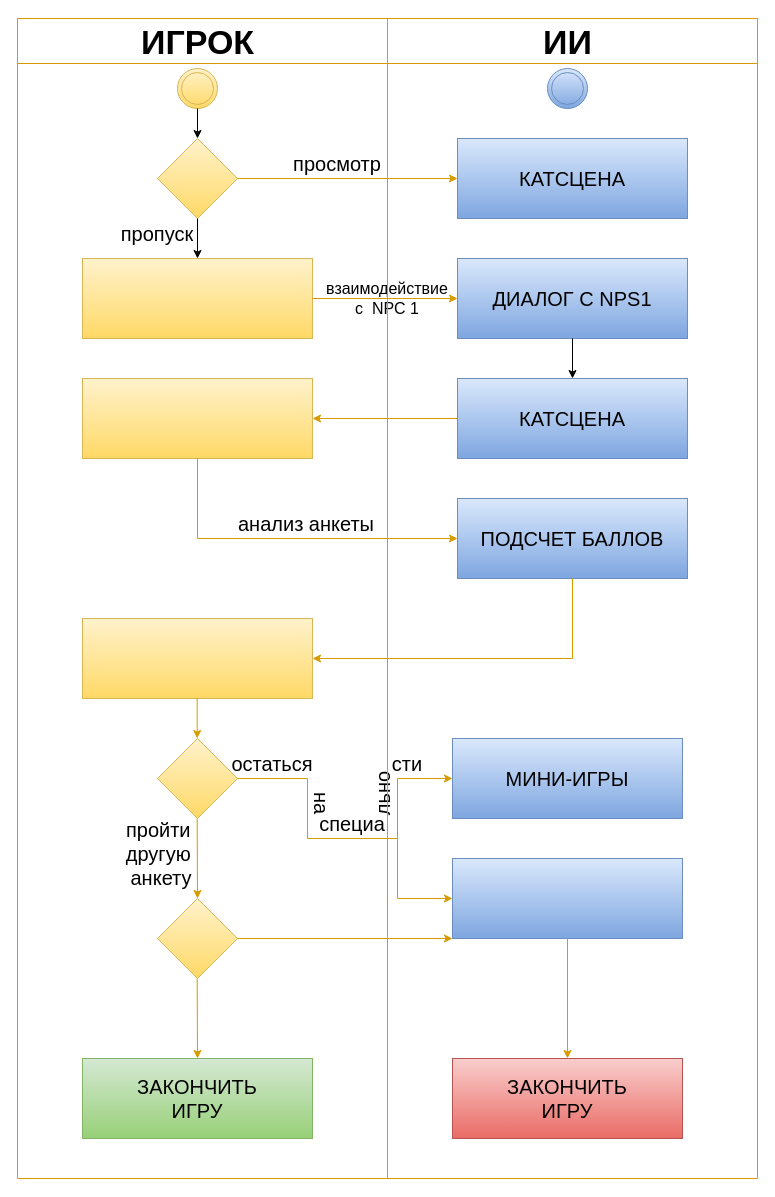
Image size: 775x1197. Some labels were removed from this diagram. The centre of each missing label's shape, as x and y in pixels:
"ГОВОРИТ СПЕЦИАЛЬНОСТЬ" goes at (197,658).
"ЗАПОЛНЕНИЕ АНКЕТЫ" goes at (197,418).
"НАЧАТЬ ДВИЖЕНИЕ" goes at (197,298).
"СРАЖЕНИЕ С БОССОМ" goes at (567,898).
